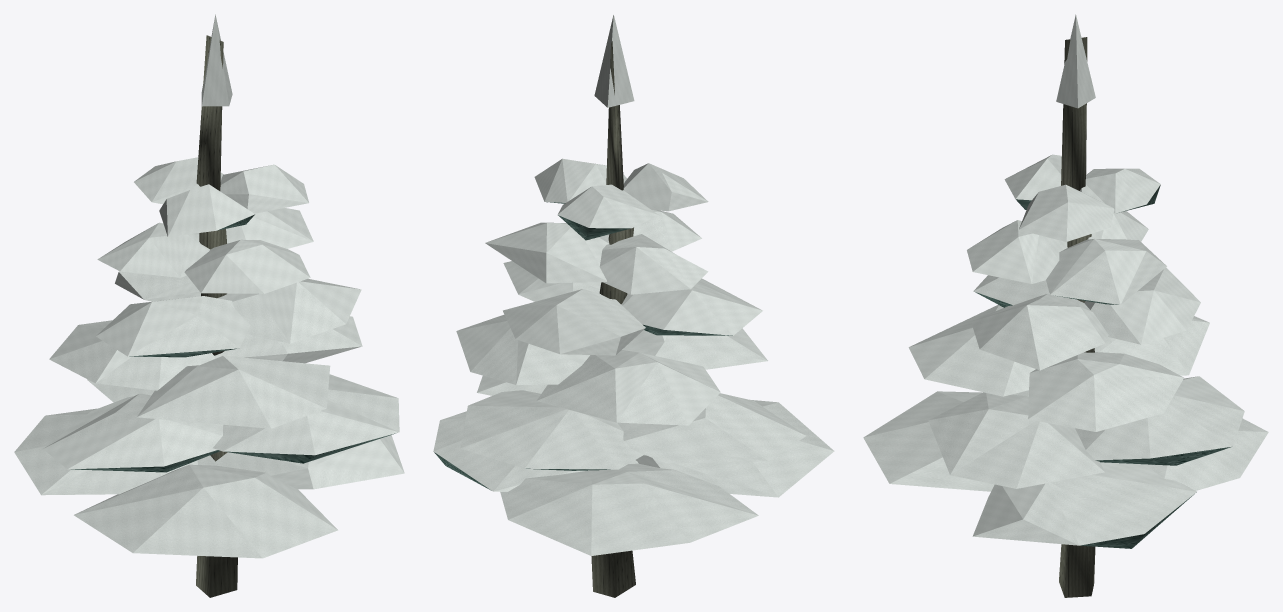
File: snow_pine_v02_lod.glb
3 renders of one model, left to right at view 1: azimuth 30°, elevation 25°; view 2: azimuth 150°, elevation 25°; view 3: azimuth 270°, elevation 25°, orthographic.
Parts seen in each view (by area): view 1: snow_pine_v02; view 2: snow_pine_v02; view 3: snow_pine_v02.
Part boxes in pixels (box(x1,y1,x2,y2)): snow_pine_v02: box(14, 14, 404, 597); snow_pine_v02: box(433, 15, 834, 597); snow_pine_v02: box(863, 14, 1268, 597).
Bounding box in the file's own units: 5.86 × 9.4 × 6.
Materials: 1 (1 with a texture image).
